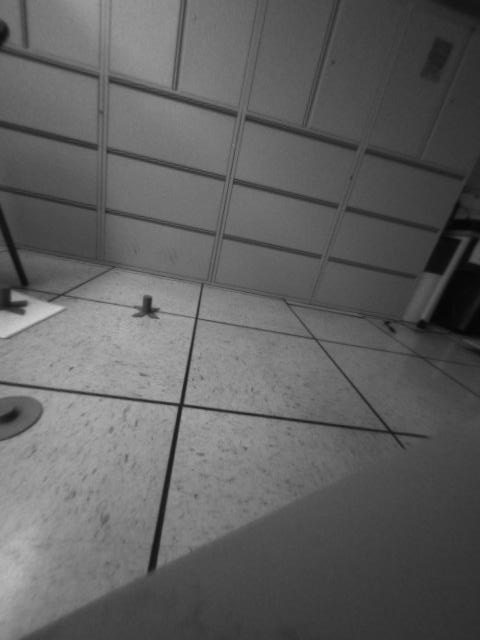X: (130, 295, 163, 320)
